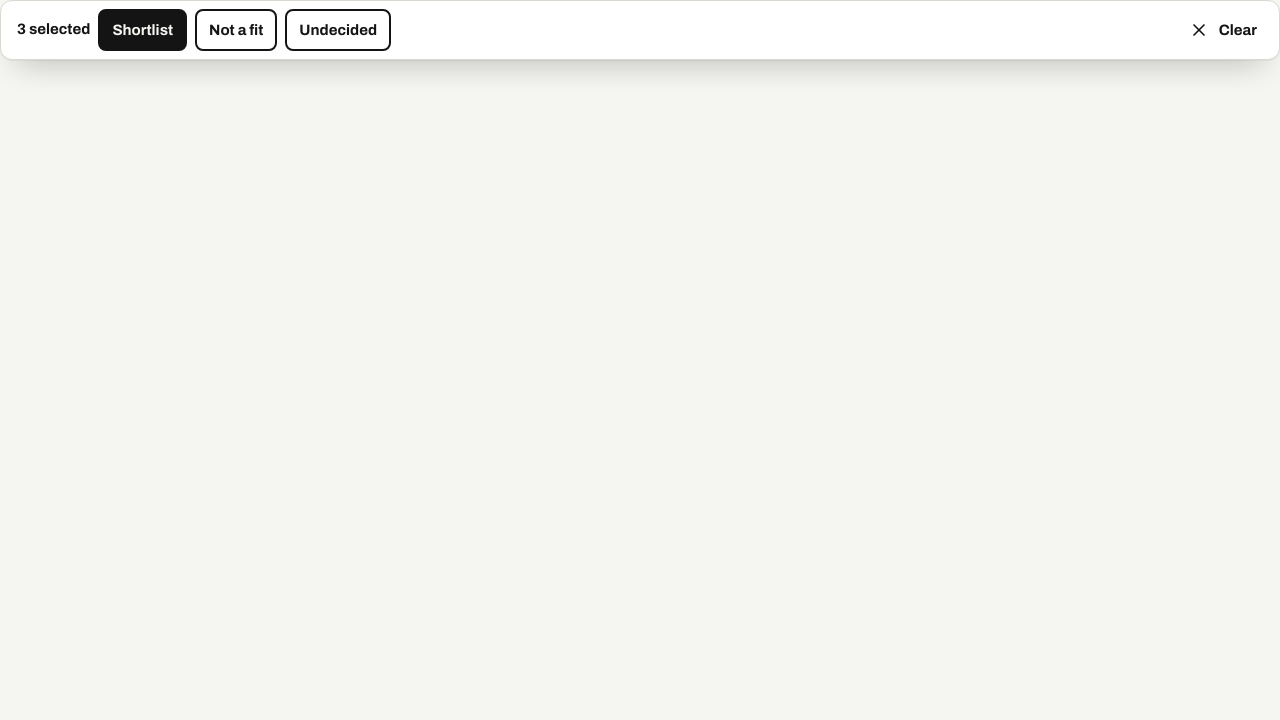
Test: BulkBar › shortlists the checked CVs, clears the selection and offers an undo that puts the old decisions back
Click the button "Shortlist": (143, 30) x1=98 y1=9 x2=187 y2=51
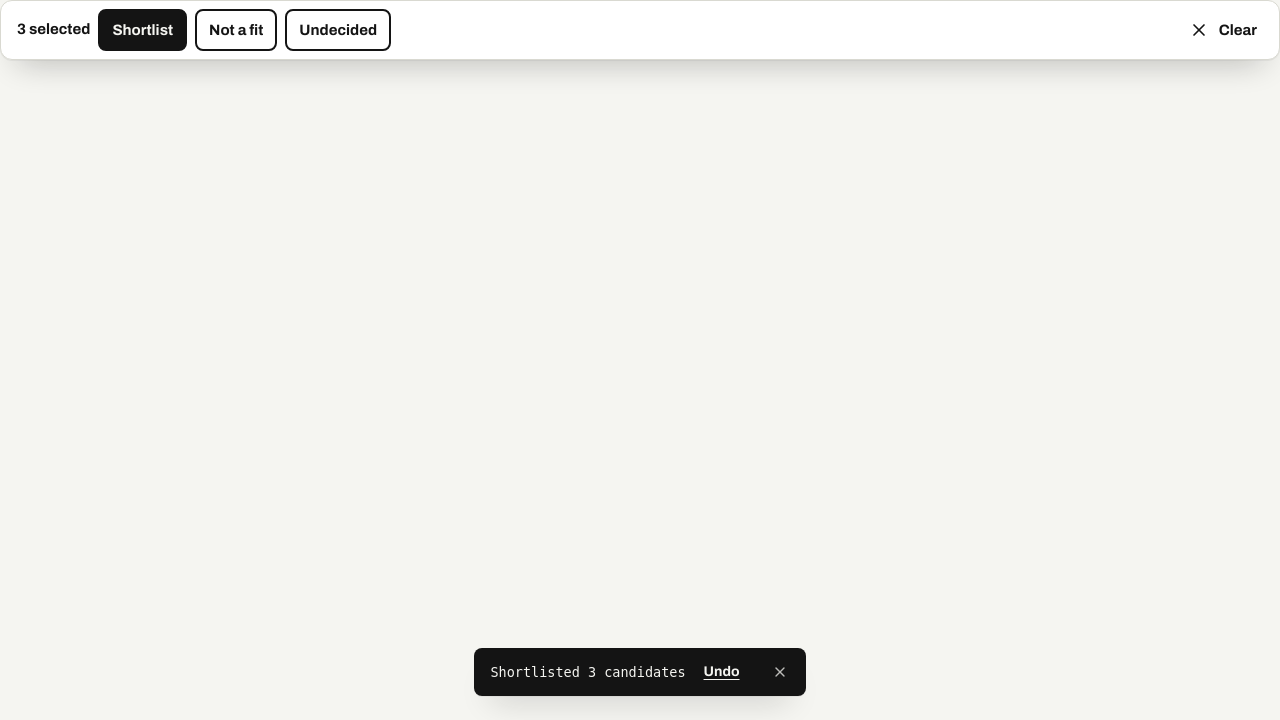
Result: the text "Shortlisted 3 candidates" is shown at x1=490 y1=664 x2=686 y2=680
Click the button "Undo": (722, 672) x1=694 y1=650 x2=750 y2=694
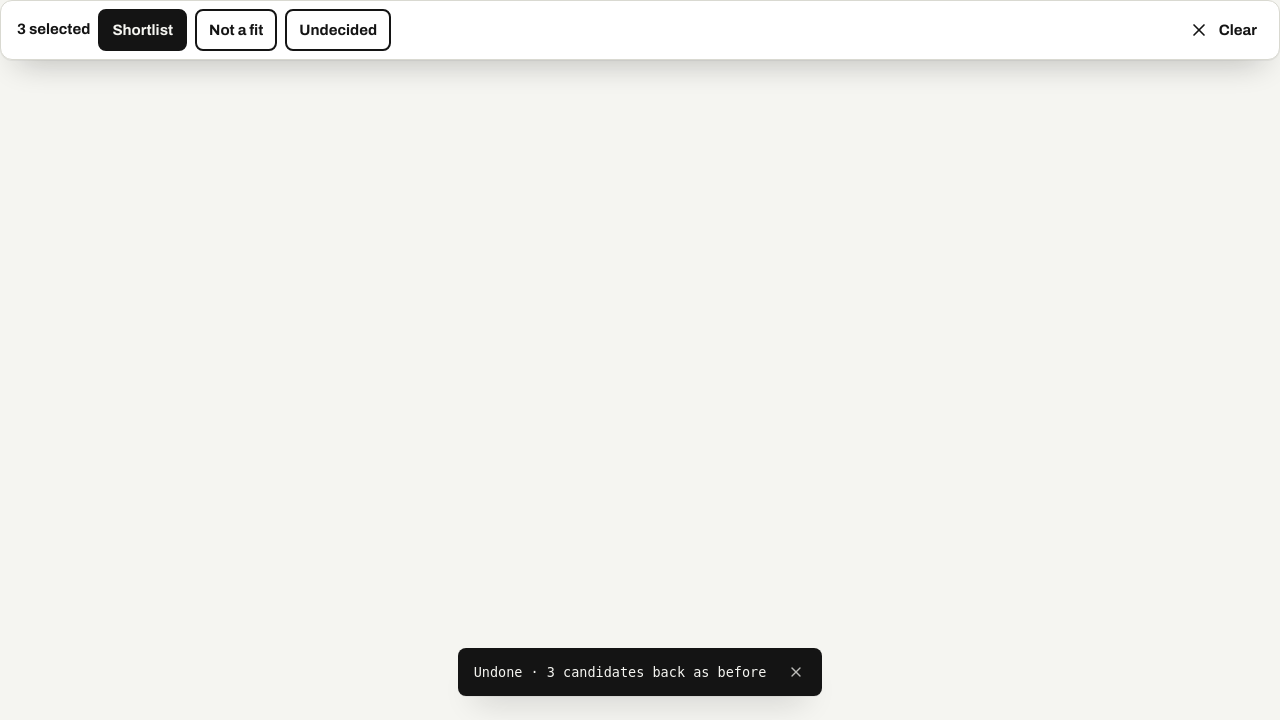
Result: the text "Undone · 3 candidates back as before" is shown at x1=474 y1=664 x2=766 y2=680
